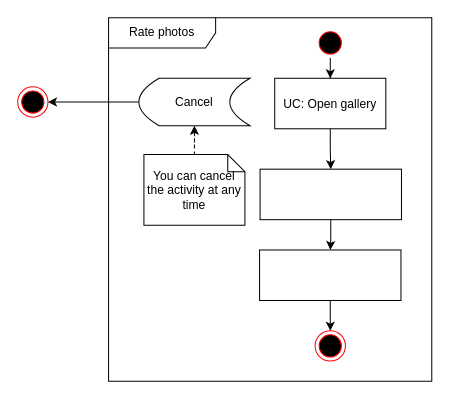
Image size: 449x399. Some labels were removed from this diagram. Here are the shapes that lost their labels. From the top down, the box of each, then its label:
(259, 168, 401, 220): UC: Select photos
(259, 249, 401, 300): Set rating (0-5 stars)
